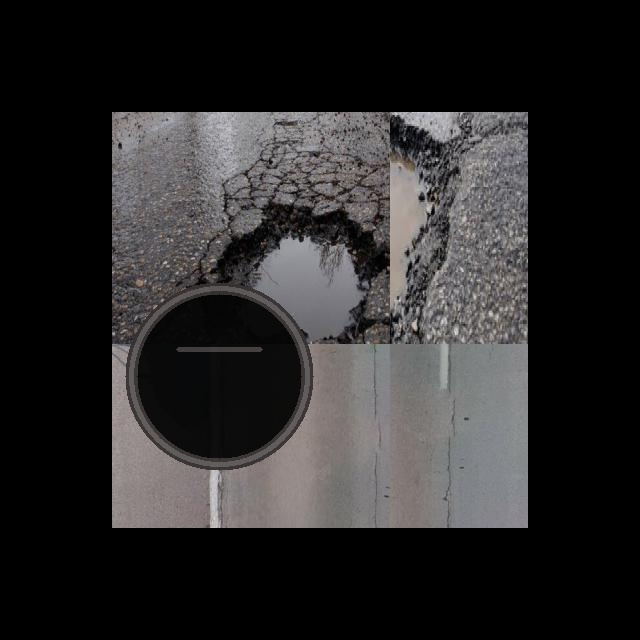open_manhole: (122, 279, 316, 473)
